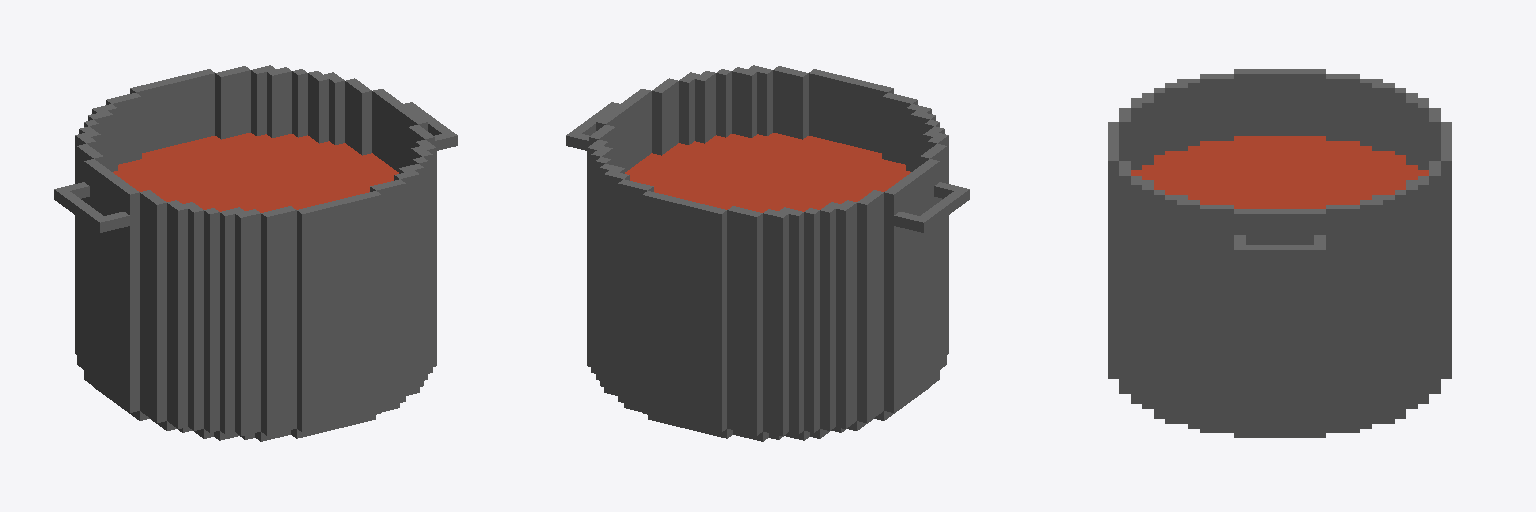
3 renders of one model, left to right at view 1: azimuth 30°, elevation 25°; view 2: azimuth 150°, elevation 25°; view 3: azimuth 270°, elevation 25°, orthographic.
Parts seen in each view (by area): view 1: object 1; view 2: object 1; view 3: object 1.
Part boxes in pixels (x1,y1,x2,y2): object 1: (54,65,457,441); object 1: (566,65,969,441); object 1: (1108,69,1451,437).
Bounding box in the file's own units: 3.6 × 2.2 × 3.
Materials: 1 (1 with a texture image).